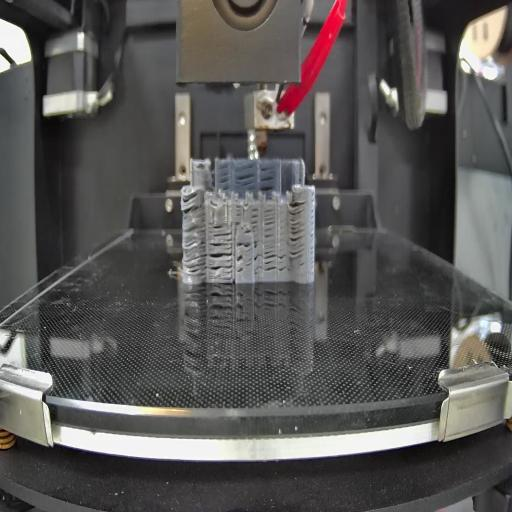cracks: (183, 227, 206, 277), (289, 201, 306, 258), (209, 241, 233, 279), (260, 166, 275, 193), (235, 171, 256, 190), (263, 208, 275, 240), (182, 194, 201, 212), (264, 246, 277, 272), (218, 168, 231, 192), (213, 224, 232, 240), (254, 240, 262, 276), (250, 209, 260, 229), (278, 251, 288, 271), (234, 205, 242, 226), (237, 253, 243, 278), (238, 240, 252, 249), (244, 228, 252, 234)
